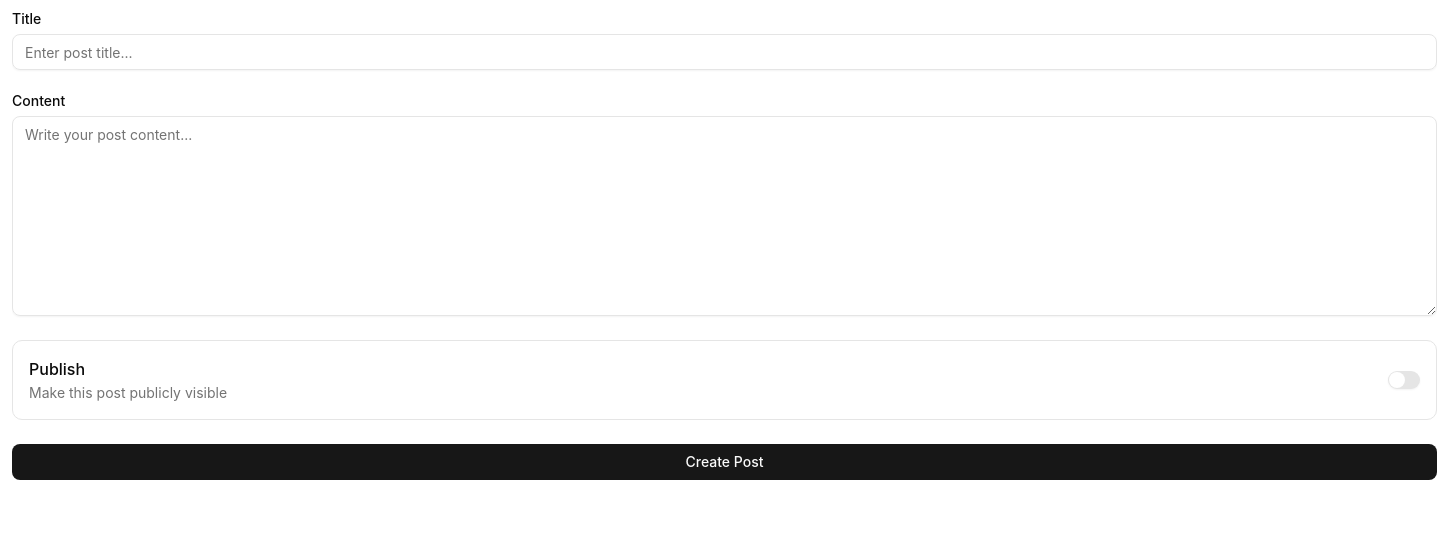
Test case: CreatePostForm › shows error message on mutation failure
Type "Test Post" into the field labelled "Title" at x=724, y=52, box [12,34,1437,70]
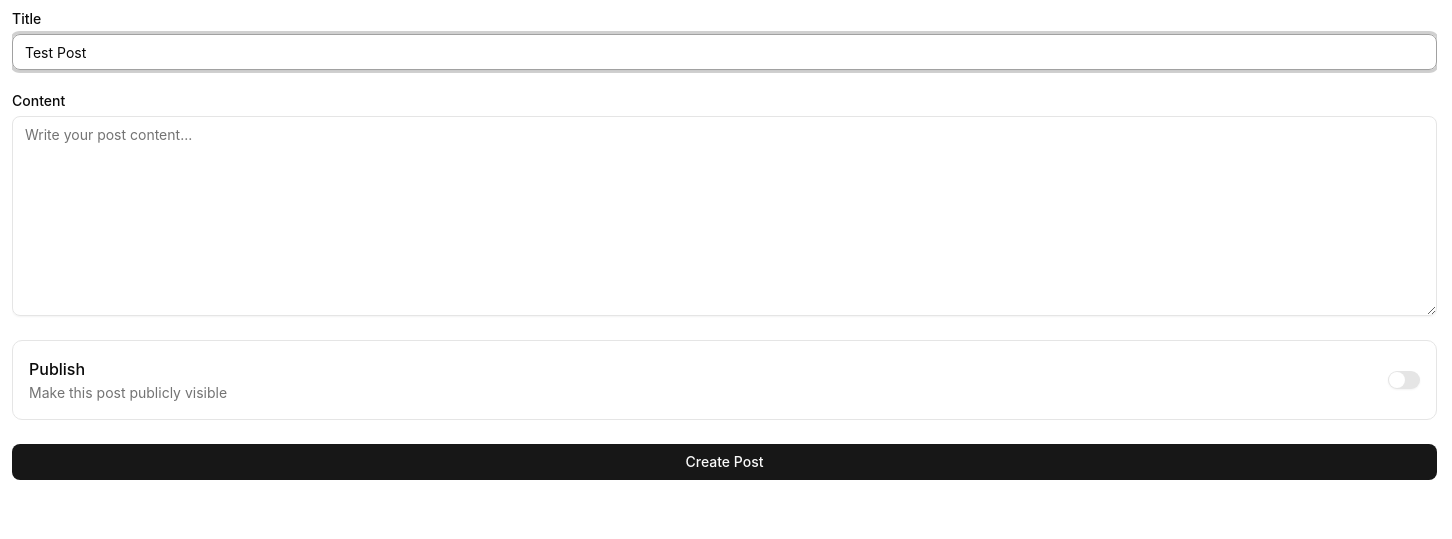
Type "Test content" into the text box labelled "Content" at x=724, y=216, box [12,116,1437,316]
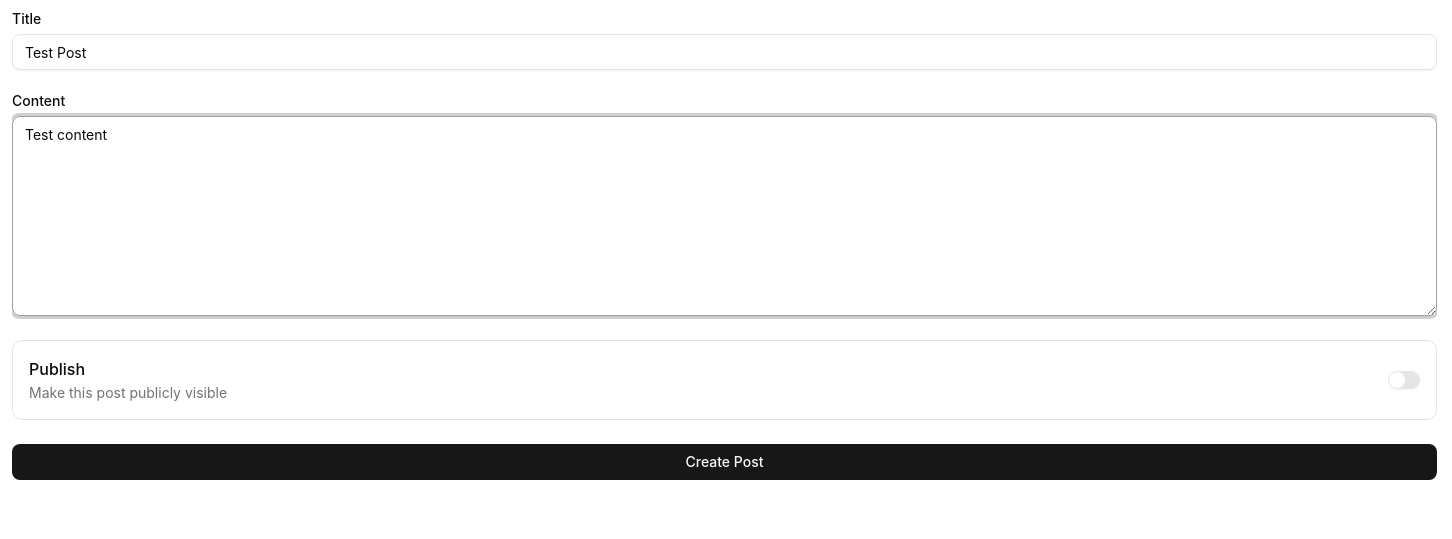
Click the button "Create Post" at x=724, y=462, box [12,444,1437,480]
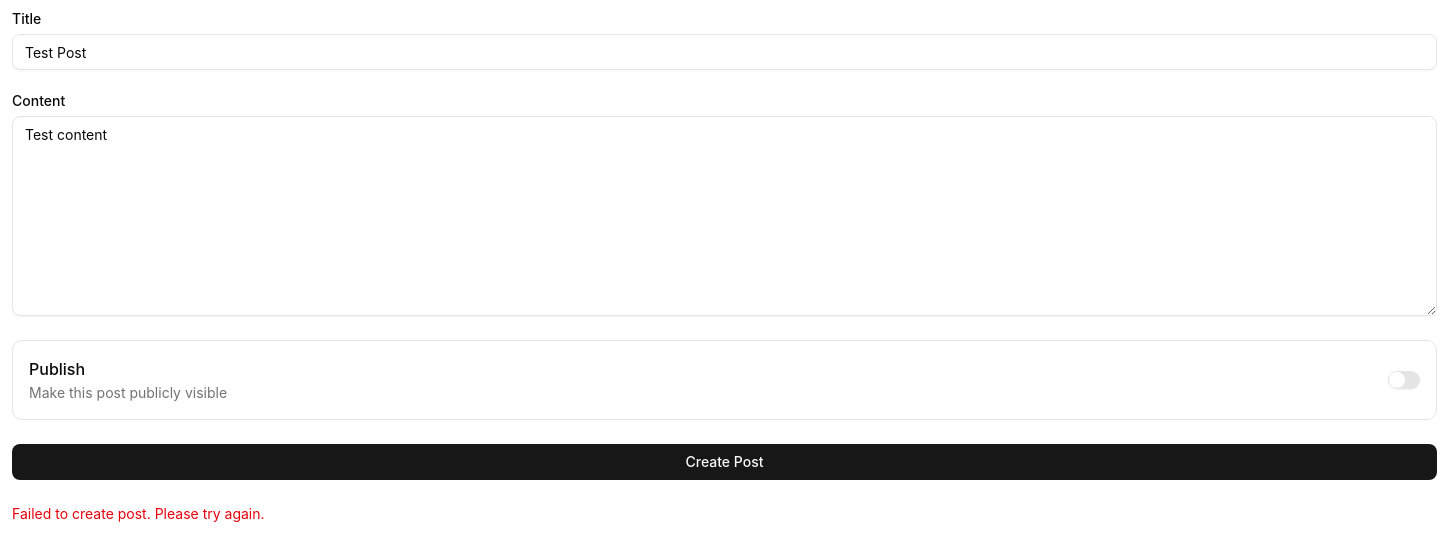
Check: the text "Failed to create post. Please try again." is shown, box [12,505,264,522]
